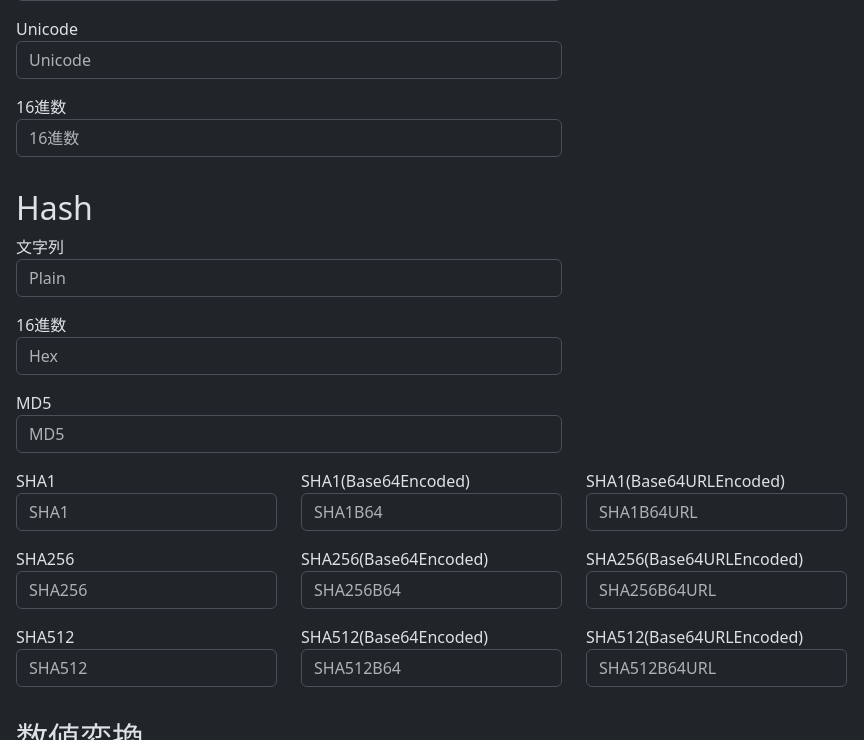
Scenario: Develop.vue › hash not binary error
This screenshot has width=864, height=740.
(page scrolled)
In the field with id "hashHex": (289, 356) [16,337,562,375], type "�"
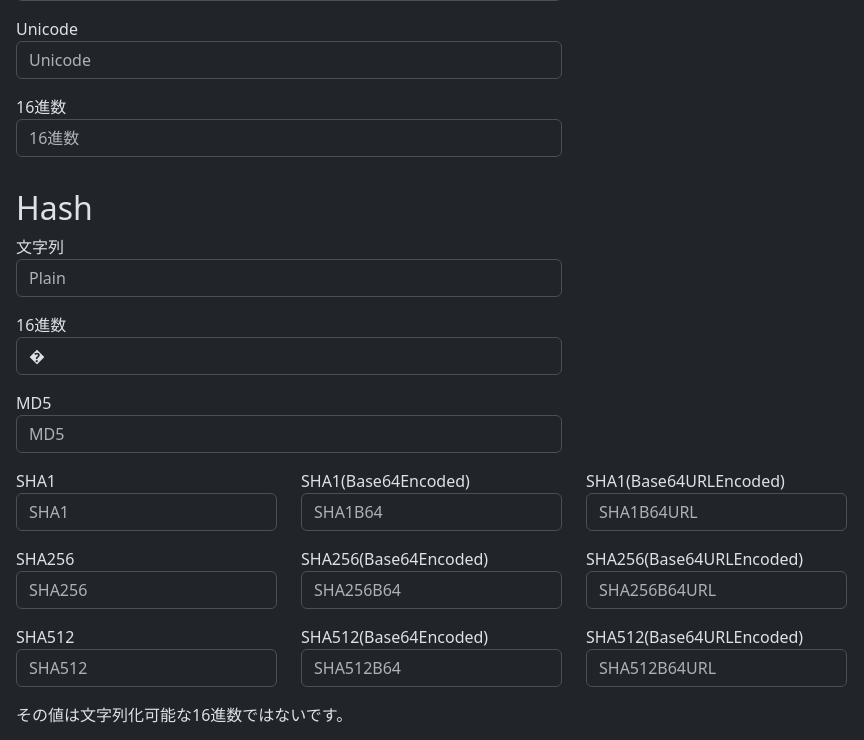
Check: the text "その値は文字列化可能な16進数ではないです。" is shown, box [16,704,352,726]
